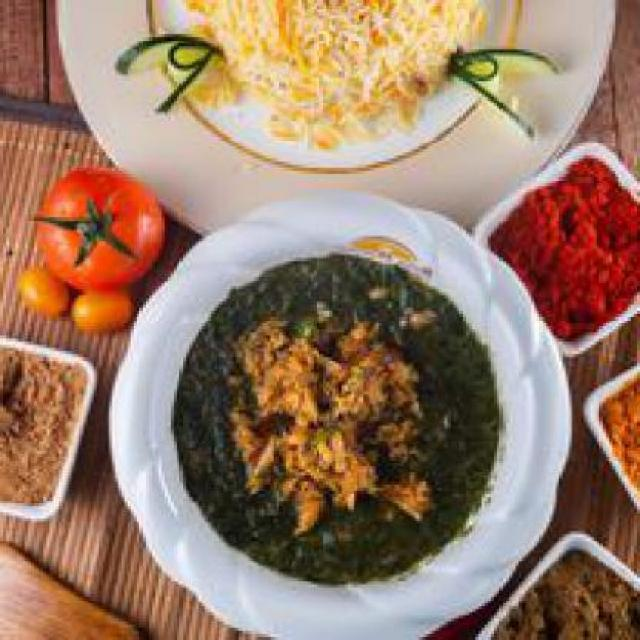molokhia: (168, 252, 509, 593)
